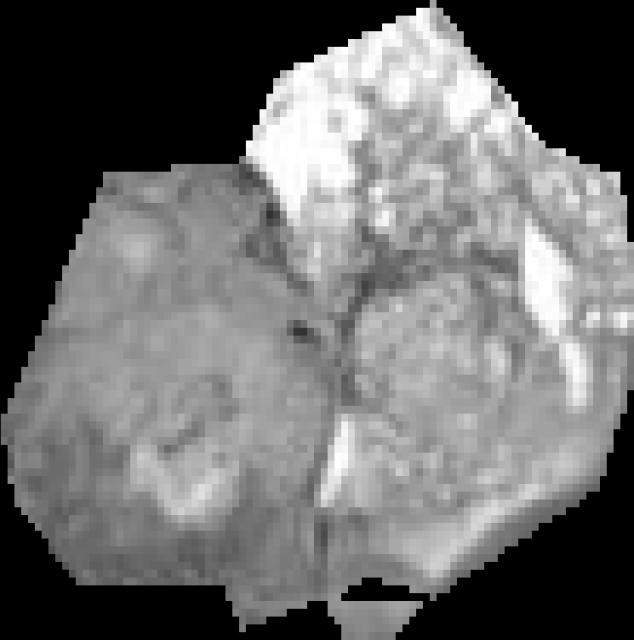tumor_less_chance: (1, 0, 634, 640)
